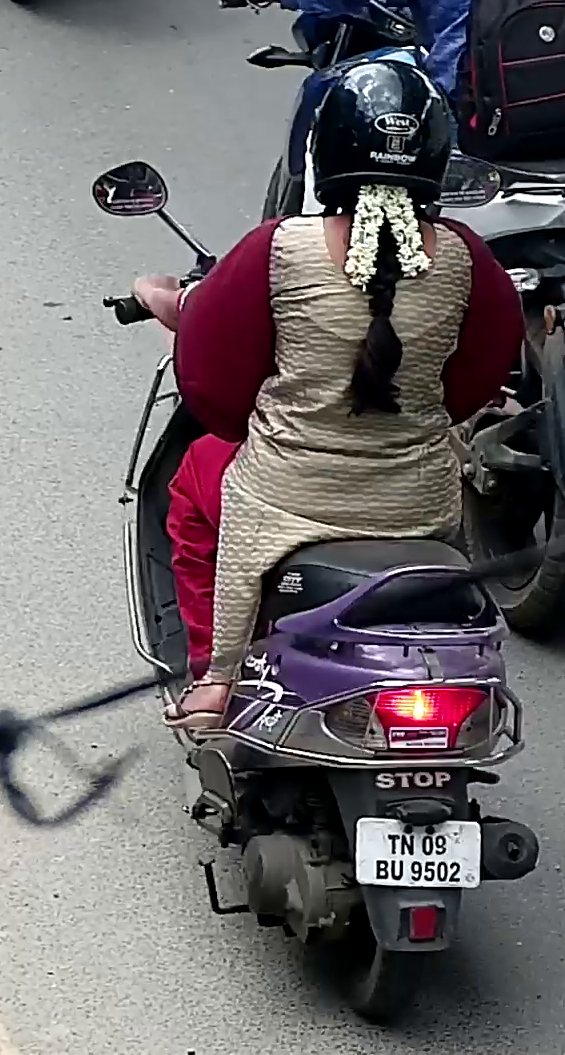0: (421, 835, 434, 856), (436, 861, 448, 882)
2: (448, 861, 461, 883)
5: (423, 861, 435, 881)
9: (434, 835, 447, 855), (410, 860, 422, 881)
B: (375, 859, 389, 880)
N: (401, 833, 415, 856)
P16: (352, 816, 483, 890)
T: (387, 833, 400, 855)
U: (390, 859, 404, 880)
